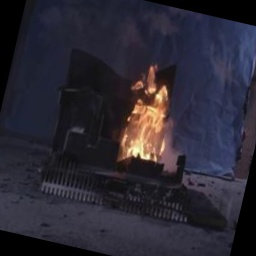fire: (109, 52, 189, 175)
